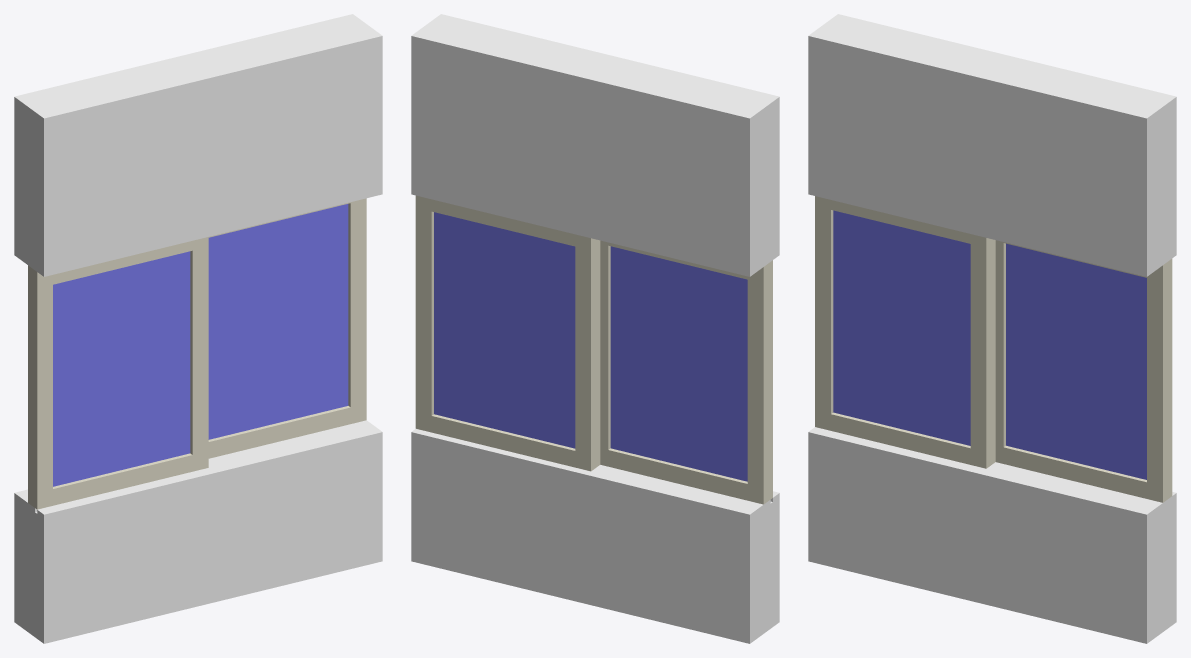
The model's file is Operating_room_Window5-1.fbx.
3 views of the same model, side by side, from view 1: azimuth 30°, elevation 25°; view 2: azimuth 150°, elevation 25°; view 3: azimuth 330°, elevation 25° (orthographic).
Visible parts, largest first — view 1: Operating room Window5-1.003, Operating room Window5-1.001, Operating room Window5-1.005, Operating room Window5-1.004, Operating room Window5-1.002, Operating room Window5-1; view 2: Operating room Window5-1.003, Operating room Window5-1.001, Operating room Window5-1.005, Operating room Window5-1.004, Operating room Window5-1, Operating room Window5-1.002; view 3: Operating room Window5-1.003, Operating room Window5-1.001, Operating room Window5-1.005, Operating room Window5-1.004, Operating room Window5-1.002, Operating room Window5-1.
Boxes of the visible parts, <box> form: Operating room Window5-1.003: <box>14,14,382,276</box>; Operating room Window5-1.001: <box>14,420,382,643</box>; Operating room Window5-1.005: <box>208,204,348,439</box>; Operating room Window5-1.004: <box>53,251,190,486</box>; Operating room Window5-1.002: <box>28,237,208,509</box>; Operating room Window5-1: <box>208,198,366,458</box>; Operating room Window5-1.003: <box>411,14,779,276</box>; Operating room Window5-1.001: <box>411,429,779,643</box>; Operating room Window5-1.005: <box>434,212,575,448</box>; Operating room Window5-1.004: <box>610,246,747,481</box>; Operating room Window5-1: <box>415,195,600,471</box>; Operating room Window5-1.002: <box>600,240,772,504</box>; Operating room Window5-1.003: <box>808,14,1176,276</box>; Operating room Window5-1.001: <box>808,427,1176,643</box>; Operating room Window5-1.005: <box>1006,243,1146,479</box>; Operating room Window5-1.004: <box>833,210,970,445</box>; Operating room Window5-1.002: <box>815,196,995,468</box>; Operating room Window5-1: <box>995,240,1172,502</box>.
Bounding box in the file's own units: 8.5 × 12.6 × 1.3.
